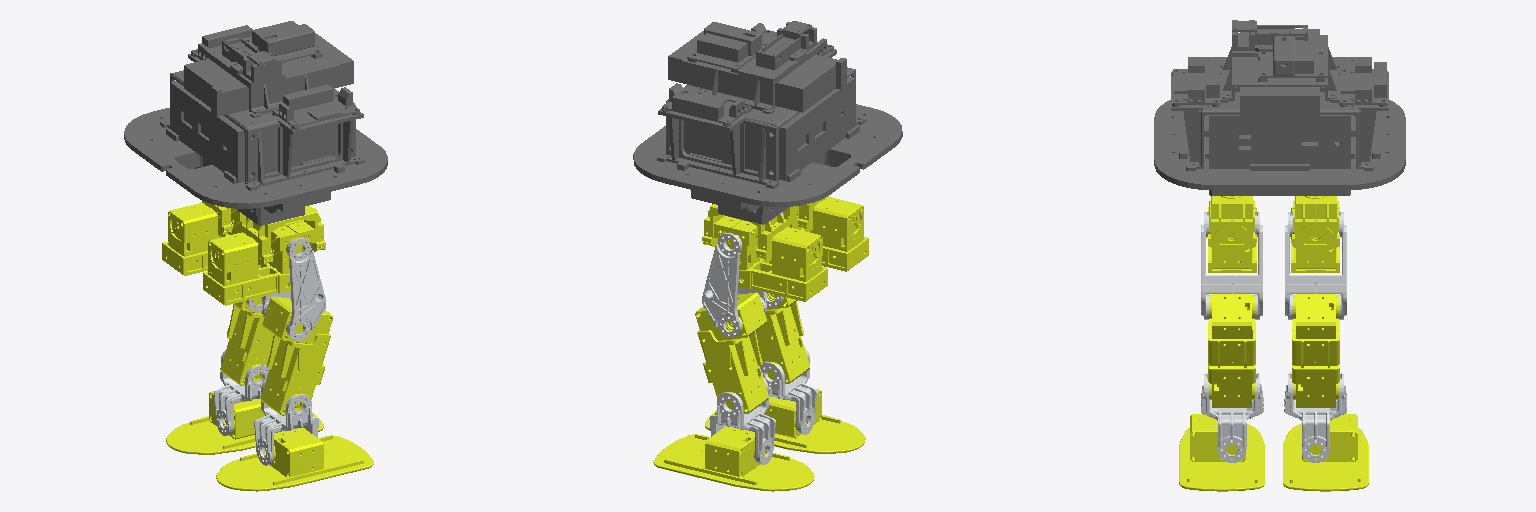
URDF robot description (exhx5_w_b_16):
<?xml version="1.0" encoding="utf-8"?>
<!-- This URDF was automatically created by SolidWorks to URDF Exporter! Originally created by [author] ([email redacted]) 
     Commit Version: 1.5.1-0-g916b5db  Build Version: 1.5.7152.31018
     For more information, please see http://wiki.ros.org/sw_urdf_exporter -->
<robot
  name="exhx5_w_b_16">
  <link
    name="body_link">
    <inertial>
      <origin
        xyz="0.00043545 0.00025536 0.10071"
        rpy="0 0 0" />
      <mass
        value="1.8238" />
      <inertia
        ixx="0.0025905"
        ixy="-5.6852E-06"
        ixz="-1.3106E-05"
        iyy="0.0024595"
        iyz="-1.261E-06"
        izz="0.0046407" />
    </inertial>
    <visual>
      <origin
        xyz="0 0 0"
        rpy="0 0 0" />
      <geometry>
        <mesh
          filename="../meshes/body_link.STL" />
      </geometry>
      <material
        name="">
        <color
          rgba="0.49804 0.49804 0.49804 1" />
      </material>
    </visual>
    <collision>
      <origin
        xyz="0 0 0"
        rpy="0 0 0" />
      <geometry>
        <mesh
          filename="../meshes/body_link.STL" />
      </geometry>
    </collision>
  </link>

  <link
    name="imu_link">
    <inertial>
      <origin
        xyz="-0.008387 1.336E-17 -0.0069463"
        rpy="0 0 0" />
      <mass
        value="0.0062931" />
      <inertia
        ixx="3.2242E-07"
        ixy="3.3527E-22"
        ixz="-6.9193E-08"
        iyy="9.2229E-07"
        iyz="-8.0392E-22"
        izz="1.1018E-06" />
    </inertial>
    <visual>
      <origin
        xyz="0 0 0"
        rpy="0 0 0" />
      <geometry>
        <mesh
          filename="../meshes/imu_link.STL" />
      </geometry>
      <material
        name="">
        <color
          rgba="0.79216 0.81961 0.93333 1" />
      </material>
    </visual>
    <collision>
      <origin
        xyz="0 0 0"
        rpy="0 0 0" />
      <geometry>
        <mesh
          filename="../meshes/imu_link.STL" />
      </geometry>
    </collision>
  </link>
  <joint
    name="imu"
    type="fixed">
    <origin
      xyz="0 0 0.0492"
      rpy="0 0 0" />
    <parent
      link="body_link" />
    <child
      link="imu_link" />
    <axis
      xyz="0 0 0" />
    <limit
      lower="-3.14"
      upper="3.14"
      effort="4"
      velocity="4" />
  </joint>
  <link
    name="l_hip_g_link">
    <inertial>
      <origin
        xyz="-0.0043797 -8.6604E-08 0.011813"
        rpy="0 0 0" />
      <mass
        value="0.061008" />
      <inertia
        ixx="1.167E-05"
        ixy="7.1767E-11"
        ixz="9.1442E-09"
        iyy="2.2342E-05"
        iyz="2.5177E-11"
        izz="2.4892E-05" />
    </inertial>
    <visual>
      <origin
        xyz="0 0 0"
        rpy="0 0 0" />
      <geometry>
        <mesh
          filename="../meshes/l_hip_g_link.STL" />
      </geometry>
      <material
        name="">
        <color
          rgba="0.9451 1 0.18431 1" />
      </material>
    </visual>
    <collision>
      <origin
        xyz="0 0 0"
        rpy="0 0 0" />
      <geometry>
        <mesh
          filename="../meshes/l_hip_g_link.STL" />
      </geometry>
    </collision>
  </link>
  <joint
    name="l_hip_g"
    type="fixed">
    <origin
      xyz=".003 .030 0"
      rpy="0 0 0" />
    <parent
      link="body_link" />
    <child
      link="l_hip_g_link" />
    <axis
      xyz="0 0 0" />
  </joint>
  <link
    name="l_hip_roll_link">
    <inertial>
      <origin
        xyz="0.013831 0.00033457 0.025453"
        rpy="0 0 0" />
      <mass
        value="0.2969" />
      <inertia
        ixx="7.8136E-05"
        ixy="7.265E-07"
        ixz="-6.9809E-08"
        iyy="9.2183E-05"
        iyz="-5.6881E-11"
        izz="7.1034E-05" />
    </inertial>
    <visual>
      <origin
        xyz="0 0 0"
        rpy="0 0 0" />
      <geometry>
        <mesh
          filename="../meshes/l_hip_roll_link.STL" />
      </geometry>
      <material
        name="">
        <color
          rgba="0.9451 1 0.18431 1" />
      </material>
    </visual>
    <collision>
      <origin
        xyz="0 0 0"
        rpy="0 0 0" />
      <geometry>
        <mesh
          filename="../meshes/l_hip_roll_link.STL" />
      </geometry>
    </collision>
  </link>
  <joint
    name="l_hip_roll"
    type="revolute">
    <origin
      xyz="0 0 0"
      rpy="3.1416 1.5708 0" />
    <parent
      link="l_hip_g_link" />
    <child
      link="l_hip_roll_link" />
    <axis
      xyz="0 0 1" />
    <limit
      lower="-3.14"
      upper="3.14"
      effort="4"
      velocity="4" />
  </joint>
  <link
    name="l_hip_pitch_link">
    <inertial>
      <origin
        xyz="0.041225 -0.007321 -5.0713E-08"
        rpy="0 0 0" />
      <mass
        value="0.051592" />
      <inertia
        ixx="2.7959E-05"
        ixy="2.0752E-06"
        ixz="-8.0934E-11"
        iyy="4.8156E-05"
        iyz="3.6317E-11"
        izz="2.9604E-05" />
    </inertial>
    <visual>
      <origin
        xyz="0 0 0"
        rpy="0 0 0" />
      <geometry>
        <mesh
          filename="../meshes/l_hip_pitch_link.STL" />
      </geometry>
      <material
        name="">
        <color
          rgba="0.89804 0.91765 0.92941 1" />
      </material>
    </visual>
    <collision>
      <origin
        xyz="0 0 0"
        rpy="0 0 0" />
      <geometry>
        <mesh
          filename="../meshes/l_hip_pitch_link.STL" />
      </geometry>
    </collision>
  </link>
  <joint
    name="l_hip_pitch"
    type="revolute">
    <origin
      xyz="0 0 0"
      rpy="1.5708 0 0" />
    <parent
      link="l_hip_roll_link" />
    <child
      link="l_hip_pitch_link" />
    <axis
      xyz="0 0 1" />
    <limit
      lower="-3.14"
      upper="3.14"
      effort="4"
      velocity="4" />
  </joint>
  <link
    name="l_knee_link">
    <inertial>
      <origin
        xyz="0.033756 -0.0084189 -6.6115E-09"
        rpy="0 0 0" />
      <mass
        value="0.28878" />
      <inertia
        ixx="6.6724E-05"
        ixy="7.5004E-07"
        ixz="-8.4578E-07"
        iyy="6.5699E-05"
        iyz="4.1085E-07"
        izz="7.0381E-05" />
    </inertial>
    <visual>
      <origin
        xyz="0 0 0"
        rpy="0 0 0" />
      <geometry>
        <mesh
          filename="../meshes/l_knee_link.STL" />
      </geometry>
      <material
        name="">
        <color
          rgba="0.9451 1 0.18431 1" />
      </material>
    </visual>
    <collision>
      <origin
        xyz="0 0 0"
        rpy="0 0 0" />
      <geometry>
        <mesh
          filename="../meshes/l_knee_link.STL" />
      </geometry>
    </collision>
  </link>
  <joint
    name="l_knee"
    type="revolute">
    <origin
      xyz="0.075954 0 0"
      rpy="0 0 0" />
    <parent
      link="l_hip_pitch_link" />
    <child
      link="l_knee_link" />
    <axis
      xyz="0 0 1" />
    <limit
      lower="-3.14"
      upper="3.14"
      effort="4"
      velocity="4" />
  </joint>
  <link
    name="l_ank_pitch_link">
    <inertial>
      <origin
        xyz="0.022786 -7.3909E-09 -7.1981E-06"
        rpy="0 0 0" />
      <mass
        value="0.044772" />
      <inertia
        ixx="1.777E-05"
        ixy="8.555E-14"
        ixz="-3.3713E-09"
        iyy="1.7119E-05"
        iyz="1.7593E-11"
        izz="1.8661E-05" />
    </inertial>
    <visual>
      <origin
        xyz="0 0 0"
        rpy="0 0 0" />
      <geometry>
        <mesh
          filename="../meshes/l_ank_pitch_link.STL" />
      </geometry>
      <material
        name="">
        <color
          rgba="0.89804 0.91765 0.92941 1" />
      </material>
    </visual>
    <collision>
      <origin
        xyz="0 0 0"
        rpy="0 0 0" />
      <geometry>
        <mesh
          filename="../meshes/l_ank_pitch_link.STL" />
      </geometry>
    </collision>
  </link>
  <joint
    name="l_ank_pitch"
    type="revolute">
    <origin
      xyz="0.074602 0 0"
      rpy="3.1416 0 0" />
    <parent
      link="l_knee_link" />
    <child
      link="l_ank_pitch_link" />
    <axis
      xyz="0 0 1" />
    <limit
      lower="-3.14"
      upper="3.14"
      effort="4"
      velocity="4" />
  </joint>
  <link
    name="l_ank_roll_link">
    <inertial>
      <origin
        xyz="0.0047069 0.010728 0.0015299"
        rpy="0 0 0" />
      <mass
        value="0.16774" />
      <inertia
        ixx="0.00012039"
        ixy="-3.7428E-09"
        ixz="4.4069E-08"
        iyy="8.7735E-05"
        iyz="7.0469E-07"
        izz="4.7866E-05" />
    </inertial>
    <visual>
      <origin
        xyz="0 0 0"
        rpy="0 0 0" />
      <geometry>
        <mesh
          filename="../meshes/l_ank_roll_link.STL" />
      </geometry>
      <material
        name="">
        <color
          rgba="0.9451 1 0.18431 1" />
      </material>
    </visual>
    <collision>
      <origin
        xyz="0 0 0"
        rpy="0 0 0" />
      <geometry>
        <mesh
          filename="../meshes/l_ank_roll_link.STL" />
      </geometry>
    </collision>
  </link>
  <joint
    name="l_ank_roll"
    type="revolute">
    <origin
      xyz="0.0465 0 0"
      rpy="-1.5708 0 0" />
    <parent
      link="l_ank_pitch_link" />
    <child
      link="l_ank_roll_link" />
    <axis
      xyz="0 0 1" />
    <limit
      lower="-3.14"
      upper="3.14"
      effort="4"
      velocity="4" />
  </joint>
  <link
    name="r_hip_g_link">
    <inertial>
      <origin
        xyz="-0.0043797 -8.6604E-08 0.011813"
        rpy="0 0 0" />
      <mass
        value="0.061008" />
      <inertia
        ixx="1.167E-05"
        ixy="7.1767E-11"
        ixz="9.1442E-09"
        iyy="2.2342E-05"
        iyz="2.5177E-11"
        izz="2.4892E-05" />
    </inertial>
    <visual>
      <origin
        xyz="0 0 0"
        rpy="0 0 0" />
      <geometry>
        <mesh
          filename="../meshes/r_hip_g_link.STL" />
      </geometry>
      <material
        name="">
        <color
          rgba="0.9451 1 0.18431 1" />
      </material>
    </visual>
    <collision>
      <origin
        xyz="0 0 0"
        rpy="0 0 0" />
      <geometry>
        <mesh
          filename="../meshes/r_hip_g_link.STL" />
      </geometry>
    </collision>
  </link>
  <joint
    name="r_hip_g"
    type="fixed">
    <origin
      xyz=".003 -.040 0"
      rpy="0 0 0" />
    <parent
      link="body_link" />
    <child
      link="r_hip_g_link" />
    <axis
      xyz="0 0 0" />
  </joint>
  <link
    name="r_hip_roll_link">
    <inertial>
      <origin
        xyz="0.013831 0.00033457 0.025453"
        rpy="0 0 0" />
      <mass
        value="0.2969" />
      <inertia
        ixx="7.8136E-05"
        ixy="7.265E-07"
        ixz="-6.9809E-08"
        iyy="9.2183E-05"
        iyz="-5.6881E-11"
        izz="7.1034E-05" />
    </inertial>
    <visual>
      <origin
        xyz="0 0 0"
        rpy="0 0 0" />
      <geometry>
        <mesh
          filename="../meshes/r_hip_roll_link.STL" />
      </geometry>
      <material
        name="">
        <color
          rgba="0.9451 1 0.18431 1" />
      </material>
    </visual>
    <collision>
      <origin
        xyz="0 0 0"
        rpy="0 0 0" />
      <geometry>
        <mesh
          filename="../meshes/r_hip_roll_link.STL" />
      </geometry>
    </collision>
  </link>
  <joint
    name="r_hip_roll"
    type="revolute">
    <origin
      xyz="0 0 0"
      rpy="3.1416 1.5708 0" />
    <parent
      link="r_hip_g_link" />
    <child
      link="r_hip_roll_link" />
    <axis
      xyz="0 0 1" />
    <limit
      lower="-3.14"
      upper="3.14"
      effort="4"
      velocity="4" />
  </joint>
  <link
    name="r_hip_pitch_link">
    <inertial>
      <origin
        xyz="0.041225 0.007321 5.0713E-08"
        rpy="0 0 0" />
      <mass
        value="0.051592" />
      <inertia
        ixx="2.7959E-05"
        ixy="-2.0752E-06"
        ixz="8.0934E-11"
        iyy="4.8156E-05"
        iyz="3.6317E-11"
        izz="2.9604E-05" />
    </inertial>
    <visual>
      <origin
        xyz="0 0 0"
        rpy="0 0 0" />
      <geometry>
        <mesh
          filename="../meshes/r_hip_pitch_link.STL" />
      </geometry>
      <material
        name="">
        <color
          rgba="0.89804 0.91765 0.92941 1" />
      </material>
    </visual>
    <collision>
      <origin
        xyz="0 0 0"
        rpy="0 0 0" />
      <geometry>
        <mesh
          filename="../meshes/r_hip_pitch_link.STL" />
      </geometry>
    </collision>
  </link>
  <joint
    name="r_hip_pitch"
    type="revolute">
    <origin
      xyz="0 0 0"
      rpy="-1.5708 0 0" />
    <parent
      link="r_hip_roll_link" />
    <child
      link="r_hip_pitch_link" />
    <axis
      xyz="0 0 1" />
    <limit
      lower="-3.14"
      upper="3.14"
      effort="4"
      velocity="4" />
  </joint>
  <link
    name="r_knee_link">
    <inertial>
      <origin
        xyz="0.033757 0.0084176 6.6115E-09"
        rpy="0 0 0" />
      <mass
        value="0.28878" />
      <inertia
        ixx="6.6724E-05"
        ixy="-7.5008E-07"
        ixz="8.458E-07"
        iyy="6.5699E-05"
        iyz="4.1081E-07"
        izz="7.0381E-05" />
    </inertial>
    <visual>
      <origin
        xyz="0 0 0"
        rpy="0 0 0" />
      <geometry>
        <mesh
          filename="../meshes/r_knee_link.STL" />
      </geometry>
      <material
        name="">
        <color
          rgba="0.9451 1 0.18431 1" />
      </material>
    </visual>
    <collision>
      <origin
        xyz="0 0 0"
        rpy="0 0 0" />
      <geometry>
        <mesh
          filename="../meshes/r_knee_link.STL" />
      </geometry>
    </collision>
  </link>
  <joint
    name="r_knee"
    type="revolute">
    <origin
      xyz="0.075954 0 0"
      rpy="0 0 0" />
    <parent
      link="r_hip_pitch_link" />
    <child
      link="r_knee_link" />
    <axis
      xyz="0 0 1" />
    <limit
      lower="-3.14"
      upper="3.14"
      effort="4"
      velocity="4" />
  </joint>
  <link
    name="r_ank_pitch_link">
    <inertial>
      <origin
        xyz="0.025786 -7.3887E-09 -7.1981E-06"
        rpy="0 0 0" />
      <mass
        value="0.044772" />
      <inertia
        ixx="1.777E-05"
        ixy="8.5434E-14"
        ixz="-3.3713E-09"
        iyy="1.7119E-05"
        iyz="1.7592E-11"
        izz="1.8661E-05" />
    </inertial>
    <visual>
      <origin
        xyz="0 0 0"
        rpy="0 0 0" />
      <geometry>
        <mesh
          filename="../meshes/r_ank_pitch_link.STL" />
      </geometry>
      <material
        name="">
        <color
          rgba="0.89804 0.91765 0.92941 1" />
      </material>
    </visual>
    <collision>
      <origin
        xyz="0 0 0"
        rpy="0 0 0" />
      <geometry>
        <mesh
          filename="../meshes/r_ank_pitch_link.STL" />
      </geometry>
    </collision>
  </link>
  <joint
    name="r_ank_pitch"
    type="revolute">
    <origin
      xyz="0.071602 0 0"
      rpy="3.1416 0 0" />
    <parent
      link="r_knee_link" />
    <child
      link="r_ank_pitch_link" />
    <axis
      xyz="0 0 1" />
    <limit
      lower="-3.14"
      upper="3.14"
      effort="4"
      velocity="4" />
  </joint>
  <link
    name="r_ank_roll_link">
    <inertial>
      <origin
        xyz="0.0077069 -0.010728 0.0015299"
        rpy="0 0 0" />
      <mass
        value="0.16774" />
      <inertia
        ixx="0.00012039"
        ixy="3.743E-09"
        ixz="4.407E-08"
        iyy="8.7735E-05"
        iyz="-7.0467E-07"
        izz="4.7866E-05" />
    </inertial>
    <visual>
      <origin
        xyz="0 0 0"
        rpy="0 0 0" />
      <geometry>
        <mesh
          filename="../meshes/r_ank_roll_link.STL" />
      </geometry>
      <material
        name="">
        <color
          rgba="0.9451 1 0.18431 1" />
      </material>
    </visual>
    <collision>
      <origin
        xyz="0 0 0"
        rpy="0 0 0" />
      <geometry>
        <mesh
          filename="../meshes/r_ank_roll_link.STL" />
      </geometry>
    </collision>
  </link>
  <joint
    name="r_ank_roll"
    type="revolute">
    <origin
      xyz="0.0465 0 0"
      rpy="1.5708 0 0" />
    <parent
      link="r_ank_pitch_link" />
    <child
      link="r_ank_roll_link" />
    <axis
      xyz="0 0 1" />
    <limit
      lower="-3.14"
      upper="3.14"
      effort="4"
      velocity="4" />
  </joint>
  <transmission name="r_hip_roll_tran">
    <type>transmission_interface/SimpleTransmission</type>
    <joint name="r_hip_roll">
      <hardwareInterface>hardware_interface/EffortJointInterface</hardwareInterface>
    </joint>
    <actuator name="r_hip_roll_motor">
      <hardwareInterface>hardware_interface/EffortJointInterface</hardwareInterface>
      <mechanicalReduction>1</mechanicalReduction>
    </actuator>
  </transmission>
  <transmission name="r_hip_pitch_tran">
    <type>transmission_interface/SimpleTransmission</type>
    <joint name="r_hip_pitch">
      <hardwareInterface>hardware_interface/EffortJointInterface</hardwareInterface>
    </joint>
    <actuator name="r_hip_pitch_motor">
      <hardwareInterface>hardware_interface/EffortJointInterface</hardwareInterface>
      <mechanicalReduction>1</mechanicalReduction>
    </actuator>
  </transmission>
  <transmission name="r_knee_tran">
    <type>transmission_interface/SimpleTransmission</type>
    <joint name="r_knee">
      <hardwareInterface>hardware_interface/EffortJointInterface</hardwareInterface>
    </joint>
    <actuator name="r_knee_motor">
      <hardwareInterface>hardware_interface/EffortJointInterface</hardwareInterface>
      <mechanicalReduction>1</mechanicalReduction>
    </actuator>
  </transmission>
  <transmission name="r_ank_pitch_tran">
    <type>transmission_interface/SimpleTransmission</type>
    <joint name="r_ank_pitch">
      <hardwareInterface>hardware_interface/EffortJointInterface</hardwareInterface>
    </joint>
    <actuator name="r_ank_pitch_motor">
      <hardwareInterface>hardware_interface/EffortJointInterface</hardwareInterface>
      <mechanicalReduction>1</mechanicalReduction>
    </actuator>
  </transmission>
  <transmission name="r_ank_roll_tran">
    <type>transmission_interface/SimpleTransmission</type>
    <joint name="r_ank_roll">
      <hardwareInterface>hardware_interface/EffortJointInterface</hardwareInterface>
    </joint>
    <actuator name="r_ank_roll_motor">
      <hardwareInterface>hardware_interface/EffortJointInterface</hardwareInterface>
      <mechanicalReduction>1</mechanicalReduction>
    </actuator>
  </transmission>
  <transmission name="l_hip_roll_tran">
    <type>transmission_interface/SimpleTransmission</type>
    <joint name="l_hip_roll">
      <hardwareInterface>hardware_interface/EffortJointInterface</hardwareInterface>
    </joint>
    <actuator name="l_hip_roll_motor">
      <hardwareInterface>hardware_interface/EffortJointInterface</hardwareInterface>
      <mechanicalReduction>1</mechanicalReduction>
    </actuator>
  </transmission>
  <transmission name="l_hip_pitch_tran">
    <type>transmission_interface/SimpleTransmission</type>
    <joint name="l_hip_pitch">
      <hardwareInterface>hardware_interface/EffortJointInterface</hardwareInterface>
    </joint>
    <actuator name="l_hip_pitch_motor">
      <hardwareInterface>hardware_interface/EffortJointInterface</hardwareInterface>
      <mechanicalReduction>1</mechanicalReduction>
    </actuator>
  </transmission>
  <transmission name="l_knee_tran">
    <type>transmission_interface/SimpleTransmission</type>
    <joint name="l_knee">
      <hardwareInterface>hardware_interface/EffortJointInterface</hardwareInterface>
    </joint>
    <actuator name="l_knee_motor">
      <hardwareInterface>hardware_interface/EffortJointInterface</hardwareInterface>
      <mechanicalReduction>1</mechanicalReduction>
    </actuator>
  </transmission>
  <transmission name="l_ank_pitch_tran">
    <type>transmission_interface/SimpleTransmission</type>
    <joint name="l_ank_pitch">
      <hardwareInterface>hardware_interface/EffortJointInterface</hardwareInterface>
    </joint>
    <actuator name="l_ank_pitch_motor">
      <hardwareInterface>hardware_interface/EffortJointInterface</hardwareInterface>
      <mechanicalReduction>1</mechanicalReduction>
    </actuator>
  </transmission>
  <transmission name="l_ank_roll_tran">
    <type>transmission_interface/SimpleTransmission</type>
    <joint name="l_ank_roll">
      <hardwareInterface>hardware_interface/EffortJointInterface</hardwareInterface>
    </joint>
    <actuator name="l_ank_roll_motor">
      <hardwareInterface>hardware_interface/EffortJointInterface</hardwareInterface>
      <mechanicalReduction>1</mechanicalReduction>
    </actuator>
  </transmission>
</robot>

--- Facts derived from the render (not from the file) ---
3 views of the same robot in one strip: view 1: azimuth 30°, elevation 25°; view 2: azimuth 150°, elevation 25°; view 3: azimuth 270°, elevation 25° (orthographic).
Model exhx5_w_b_16 with 14 links and 13 joints (10 revolute, 3 fixed), rooted at body_link, posed every joint at zero.
Visible links, largest first — view 1: body_link, r_ank_roll_link, r_hip_roll_link, r_knee_link, l_hip_roll_link, l_ank_roll_link, r_hip_pitch_link, l_knee_link, r_ank_pitch_link, l_ank_pitch_link, r_hip_g_link; view 2: body_link, l_ank_roll_link, l_hip_roll_link, l_knee_link, r_hip_roll_link, r_ank_roll_link, l_hip_pitch_link, r_knee_link, l_ank_pitch_link, r_ank_pitch_link, l_hip_g_link; view 3: body_link, l_knee_link, r_knee_link, l_ank_roll_link, r_ank_roll_link, l_hip_pitch_link, r_hip_pitch_link, r_hip_g_link, l_hip_g_link, r_ank_pitch_link, l_ank_pitch_link, l_hip_roll_link (+1 smaller).
Boxes of the visible links, <box> form: body_link: <box>124,21,387,225</box>; r_ank_roll_link: <box>216,427,373,491</box>; r_hip_roll_link: <box>203,220,314,305</box>; r_knee_link: <box>261,296,332,415</box>; l_hip_roll_link: <box>162,203,246,275</box>; l_ank_roll_link: <box>166,391,323,454</box>; r_hip_pitch_link: <box>262,238,325,340</box>; l_knee_link: <box>220,297,273,385</box>; r_ank_pitch_link: <box>254,380,318,465</box>; l_ank_pitch_link: <box>214,350,269,435</box>; r_hip_g_link: <box>242,205,325,264</box>; body_link: <box>633,21,902,224</box>; l_ank_roll_link: <box>653,426,814,491</box>; l_hip_roll_link: <box>714,216,827,301</box>; l_knee_link: <box>695,292,768,413</box>; r_hip_roll_link: <box>783,197,868,271</box>; r_ank_roll_link: <box>705,389,865,453</box>; l_hip_pitch_link: <box>702,232,766,337</box>; r_knee_link: <box>756,293,809,383</box>; l_ank_pitch_link: <box>709,377,775,464</box>; r_ank_pitch_link: <box>760,346,816,434</box>; l_hip_g_link: <box>702,204,787,260</box>; body_link: <box>1154,20,1405,195</box>; l_knee_link: <box>1292,294,1339,407</box>; r_knee_link: <box>1208,294,1255,407</box>; l_ank_roll_link: <box>1283,414,1368,491</box>; r_ank_roll_link: <box>1179,414,1264,491</box>; l_hip_pitch_link: <box>1285,212,1346,319</box>; r_hip_pitch_link: <box>1201,212,1262,319</box>; r_hip_g_link: <box>1208,196,1256,247</box>; l_hip_g_link: <box>1291,196,1339,247</box>; r_ank_pitch_link: <box>1201,373,1263,462</box>; l_ank_pitch_link: <box>1284,373,1346,462</box>; l_hip_roll_link: <box>1291,201,1339,272</box>.
Size in the robot's own frame: 0.185 by 0.21 by 0.3893 metres.
14 mesh visuals loaded from 14 distinct referenced files (14 binary STL).